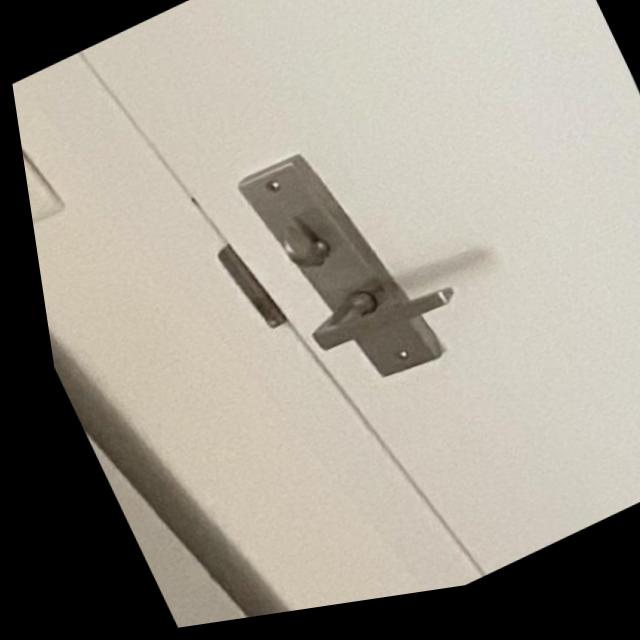door_handle: (259, 243, 475, 402)
